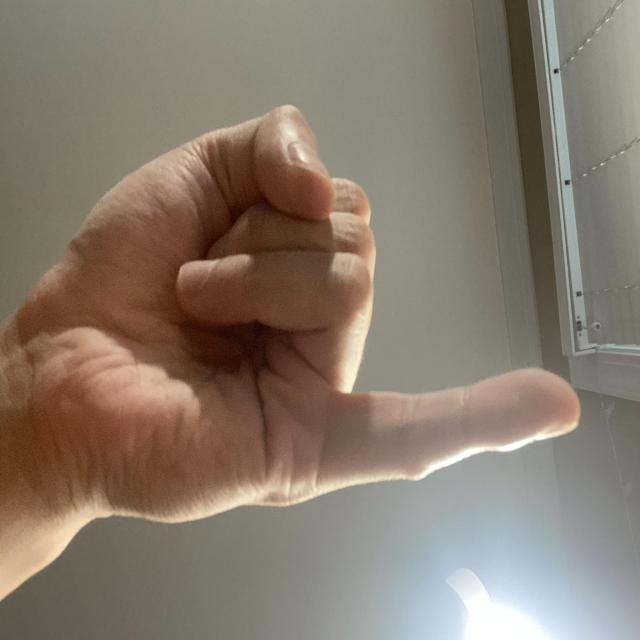I: (234, 73, 560, 640)
